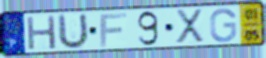9: (135, 10, 160, 47)
F: (99, 11, 129, 48)
G: (208, 7, 238, 44)
H: (25, 14, 58, 52)
U: (57, 12, 90, 51)
X: (175, 8, 206, 45)
